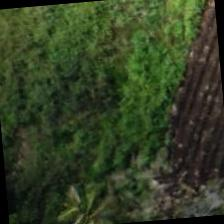Kelapa_Sawit: (41, 163, 137, 223)
